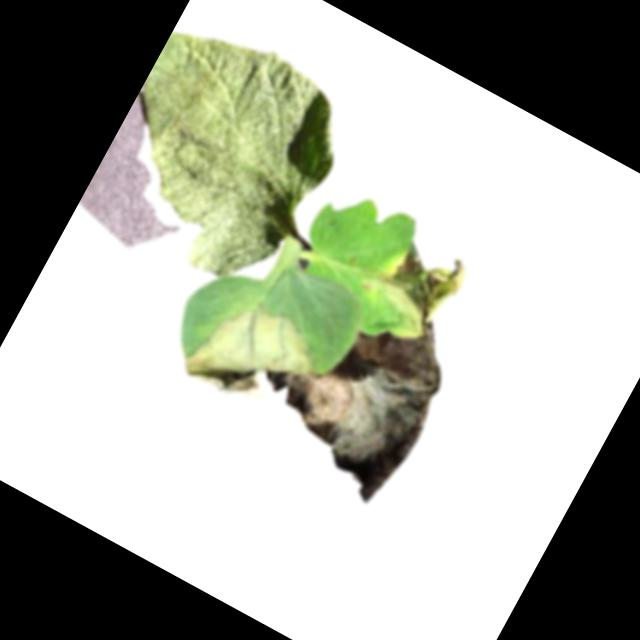Late_blight: (232, 260, 473, 512), (174, 283, 329, 432), (373, 233, 471, 338)
healthy: (80, 4, 368, 302)
